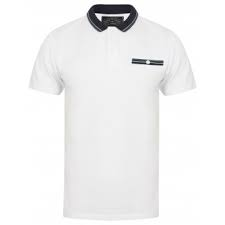C_polo shirt: (26, 8, 205, 220)
